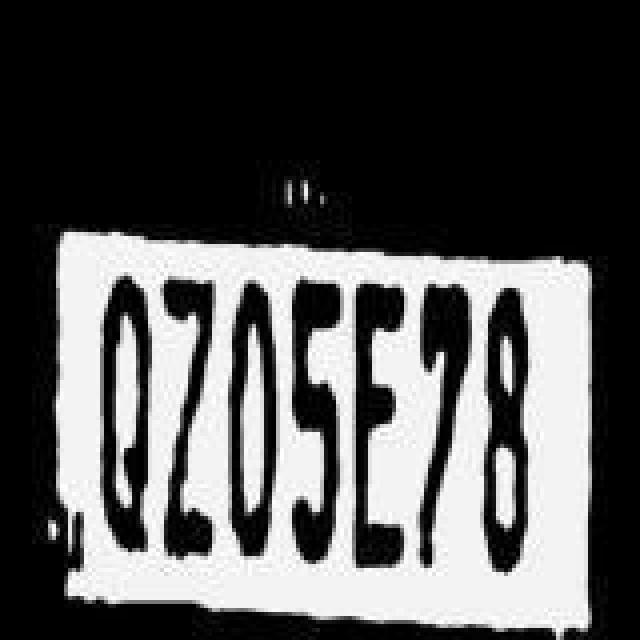5: (288, 276, 344, 572)
7: (406, 280, 482, 576)
8: (474, 284, 550, 588)
E: (348, 274, 412, 574)
O: (222, 272, 290, 568)
Q: (84, 270, 156, 562)
Z: (152, 264, 216, 568)
